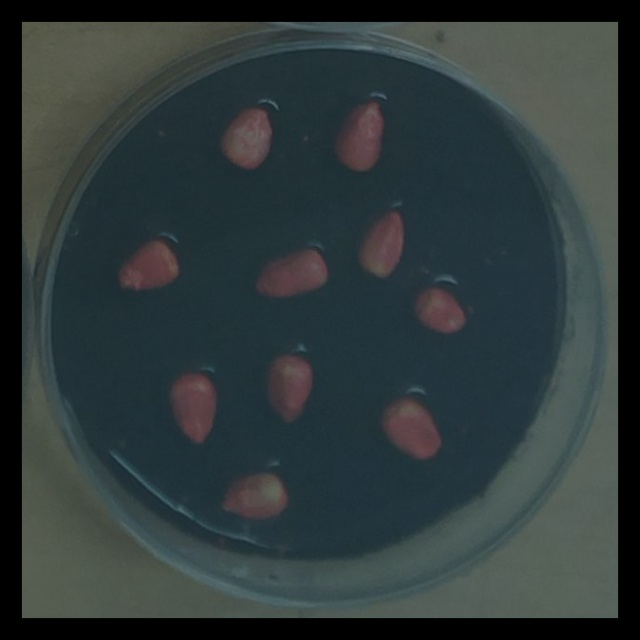Zea mays: (247, 238, 334, 308), (374, 391, 448, 467), (325, 93, 390, 179), (161, 364, 222, 453), (211, 99, 278, 178), (211, 464, 292, 529), (110, 231, 185, 300), (257, 348, 319, 431), (349, 204, 409, 286), (404, 280, 469, 342)
